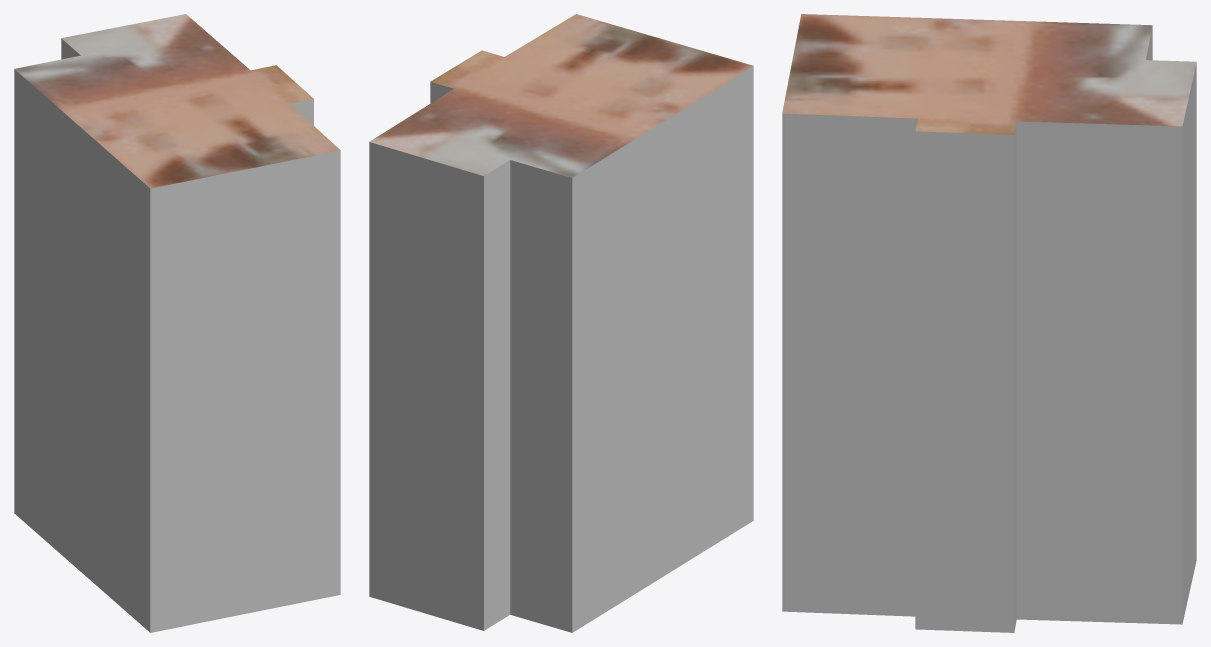
File: DEBW_0010007Tx2V.gltf
3 views of the same model, side by side, from view 1: azimuth 30°, elevation 25°; view 2: azimuth 150°, elevation 25°; view 3: azimuth 270°, elevation 25° (orthographic). The views are drawn at different scales.
Parts seen in each view (by area): view 1: Z_UP; view 2: Z_UP; view 3: Z_UP.
Boxes of the visible parts, x1,y1,x2,y2 form: Z_UP: (14,14,340,632); Z_UP: (369,14,753,632); Z_UP: (782,14,1196,632).
Size of the model in its own units: 9.6 by 18.44 by 13.91.
2 materials, 1 textured.
